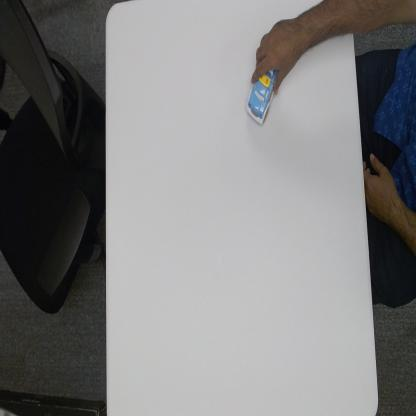Arm: (296, 0, 354, 55)
Car: (245, 68, 278, 127)
Hand: (250, 17, 297, 98)
